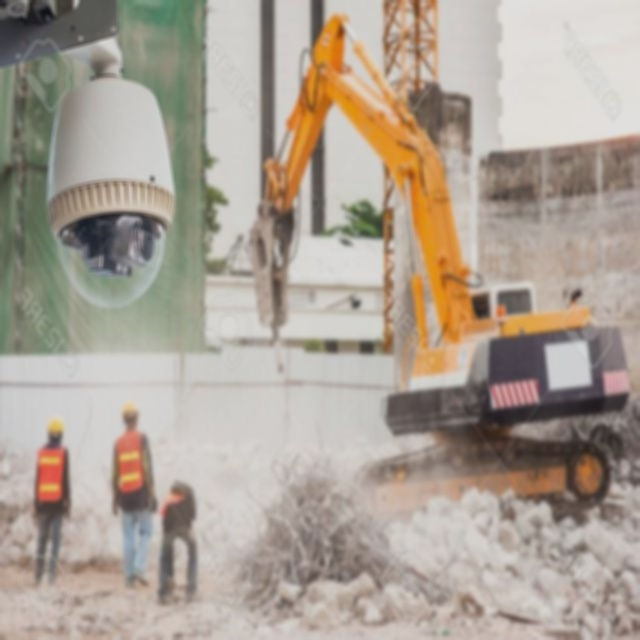Con_Chaleco: (113, 430, 149, 501), (35, 442, 71, 506)
